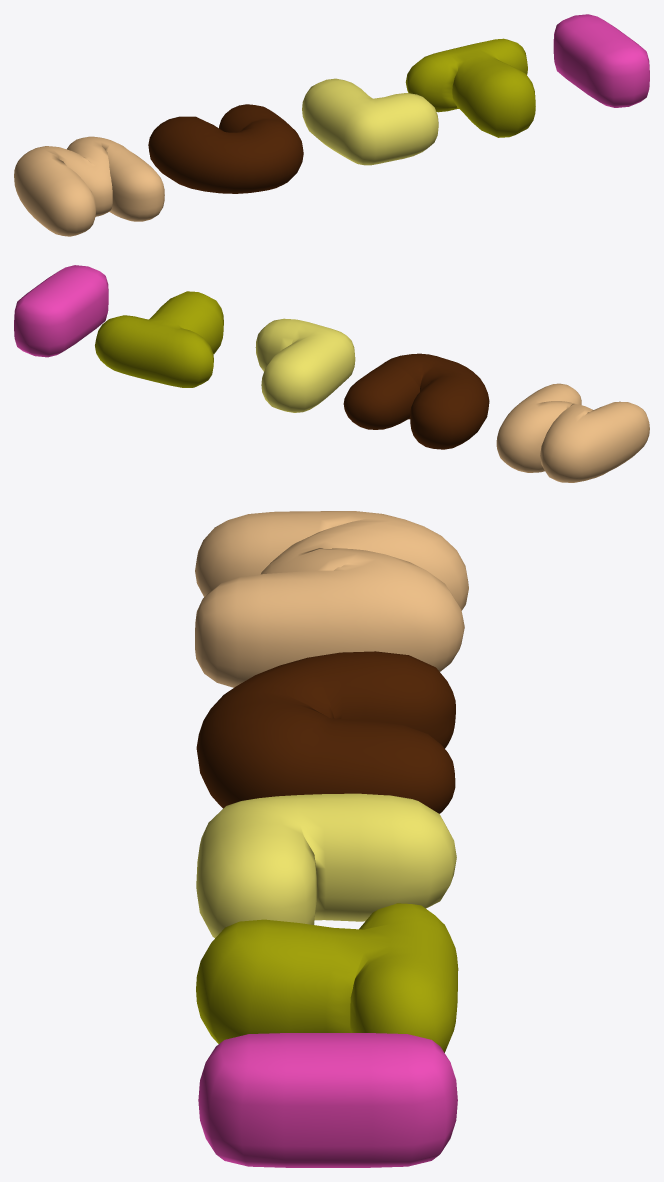
The model's file is multi.fbx.
The picture shows the model from 3 angles, top to bottom: view 1: azimuth 30°, elevation 25°; view 2: azimuth 150°, elevation 25°; view 3: azimuth 270°, elevation 25°; orthographic projection. The views are drawn at different scales.
Parts seen in each view (by area): view 1: M, U, T, L, I; view 2: M, U, T, L, I; view 3: M, U, I, L, T.
Boxes of the visible parts, x1=… form: M: x1=14, y1=136, x2=164, y2=236; U: x1=148, y1=104, x2=303, y2=193; T: x1=405, y1=38, x2=535, y2=137; L: x1=302, y1=78, x2=438, y2=165; I: x1=553, y1=14, x2=649, y2=107; M: x1=496, y1=383, x2=649, y2=482; U: x1=343, y1=353, x2=489, y2=449; T: x1=95, y1=291, x2=223, y2=387; L: x1=255, y1=318, x2=355, y2=412; I: x1=14, y1=265, x2=108, y2=357; M: x1=195, y1=511, x2=468, y2=687; U: x1=196, y1=651, x2=455, y2=813; I: x1=198, y1=1033, x2=457, y2=1167; L: x1=196, y1=793, x2=456, y2=937; T: x1=196, y1=903, x2=458, y2=1052.
Size of the model in its own units: 491 by 49.86 by 98.46.
